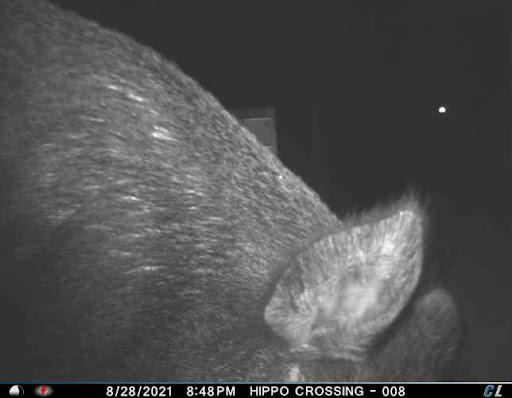Hog: (2, 0, 442, 383)
